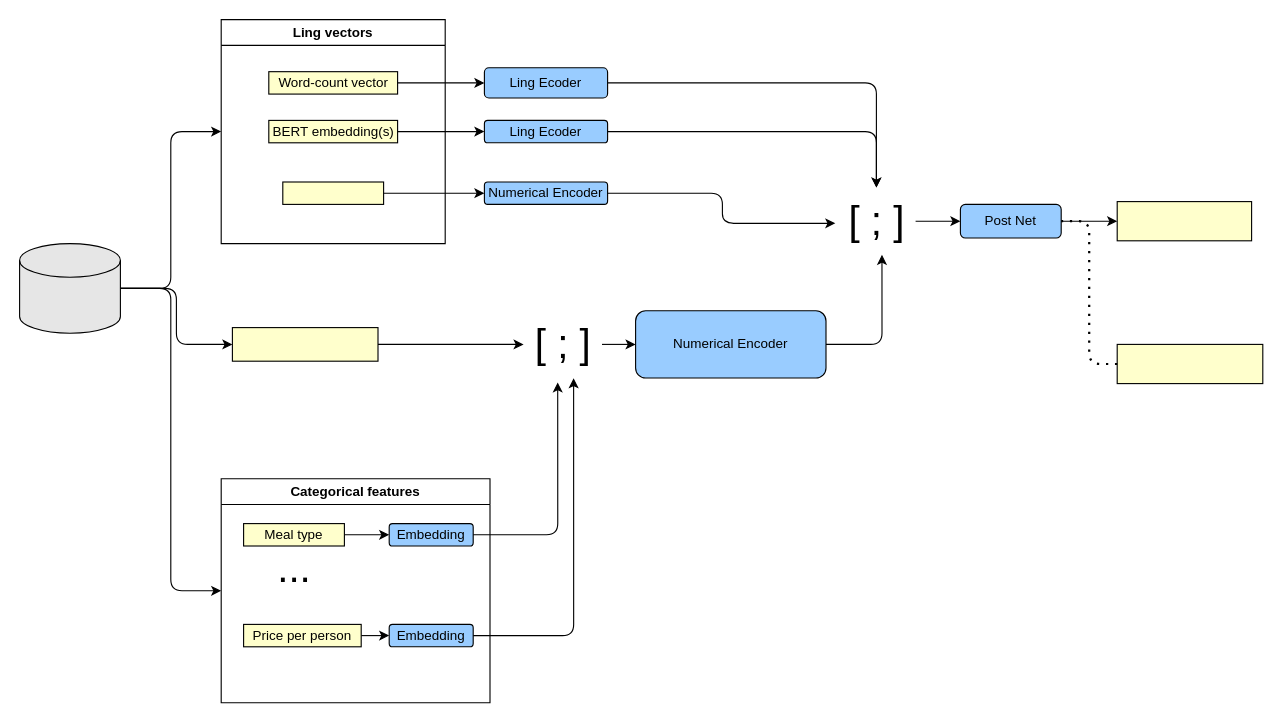
This 1282x722 diagram has some shape labels left out. Here are the shapes that lost their labels. From the top down, the centre of each, then its label:
point 333,192: POS vector
point 1184,220: Rating prediction
point 69,287: Processed DS
point 304,343: (Velocity, Volume)
point 1189,363: is_translated flag prediction
